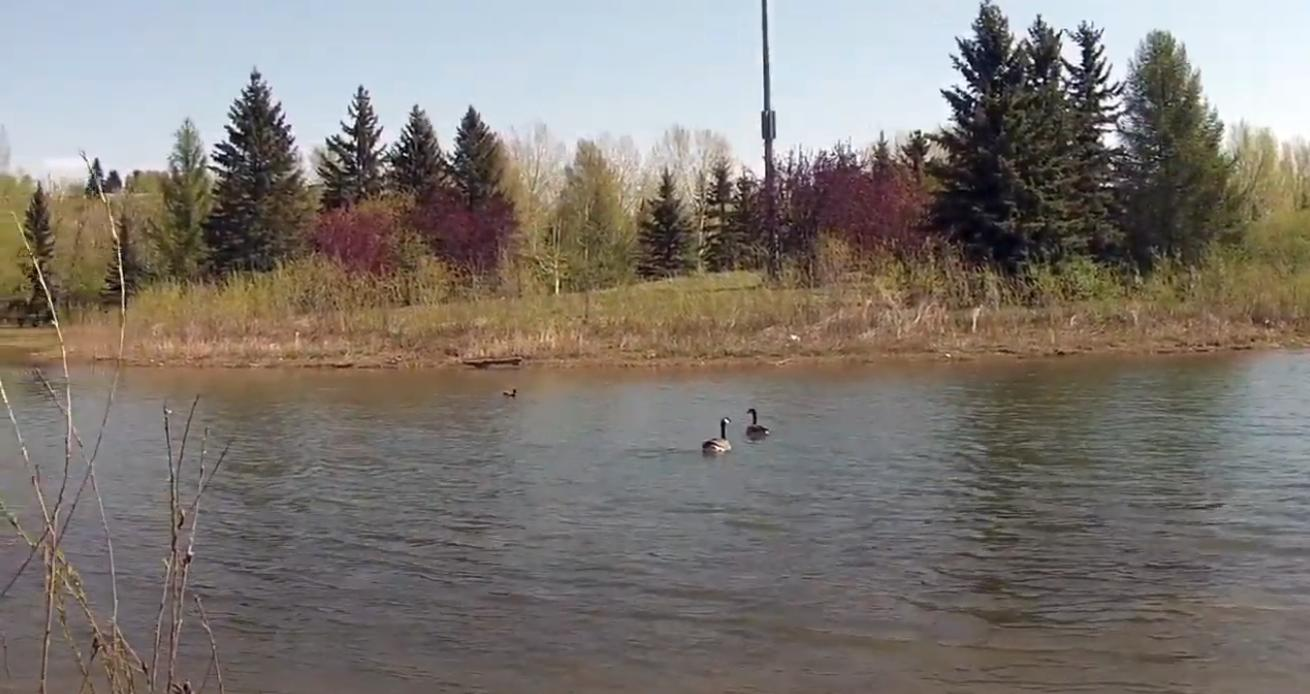goose: (740, 402, 776, 447), (699, 417, 733, 464)
